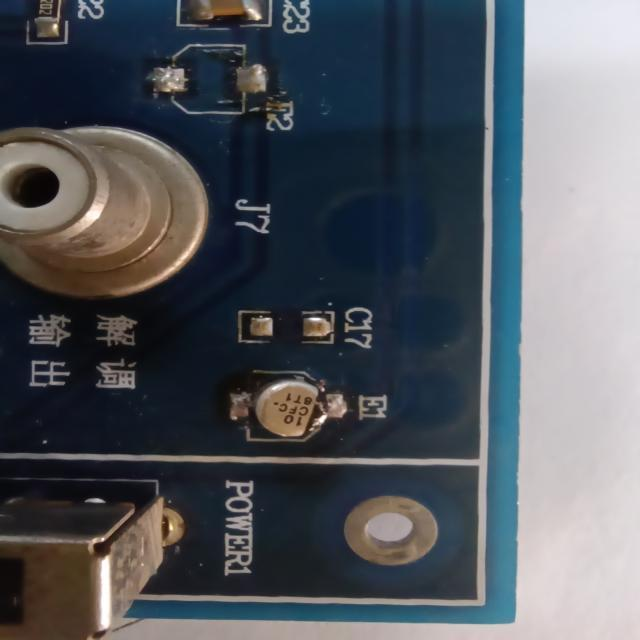Missing component: (148, 38, 305, 134), (222, 303, 380, 357)
